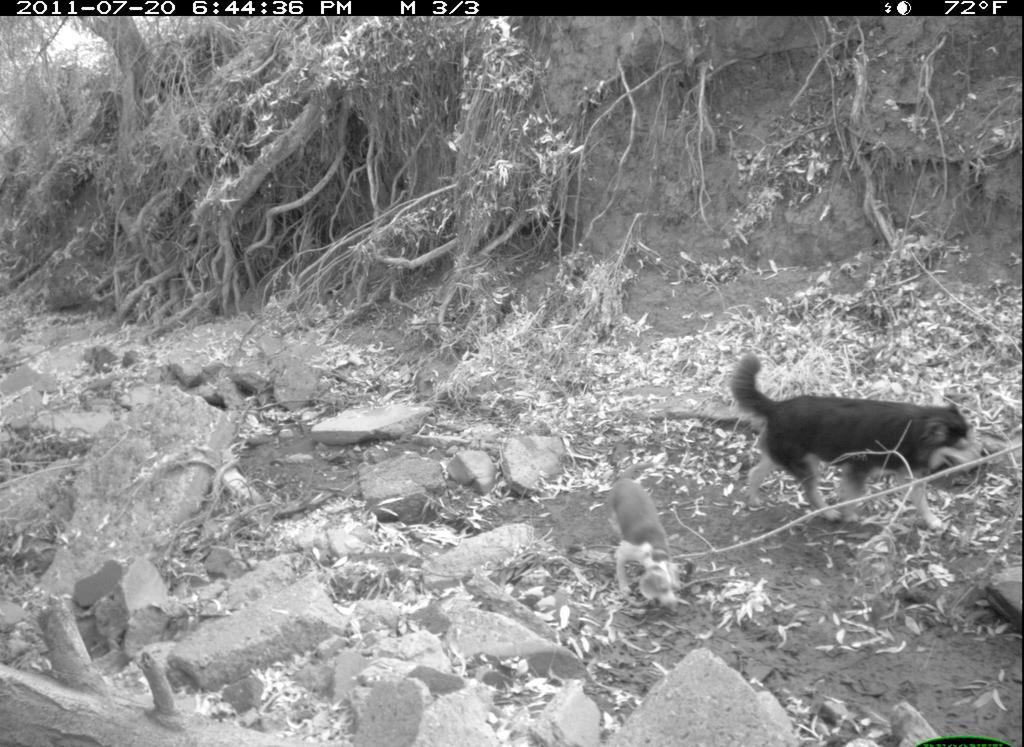dog: (713, 346, 996, 534)
